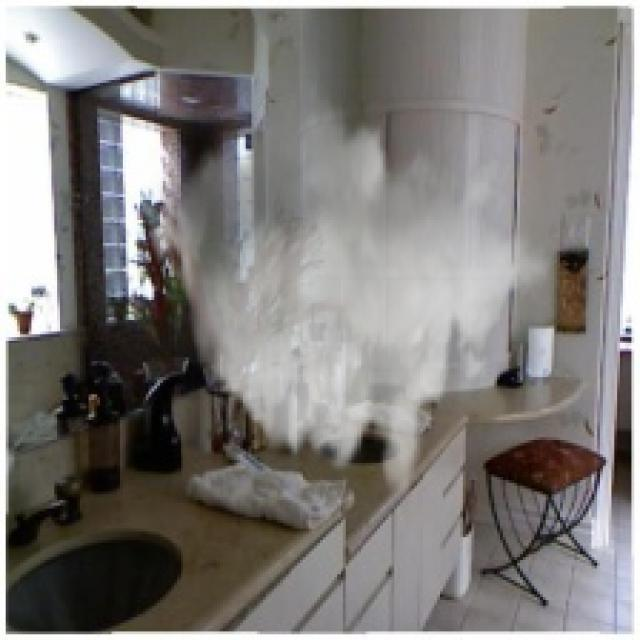Smoke: (146, 74, 552, 497)
